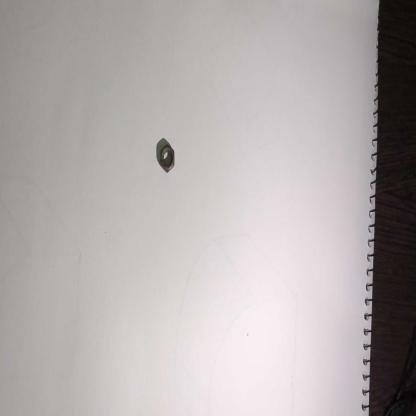NUTS: (157, 142, 178, 175)
